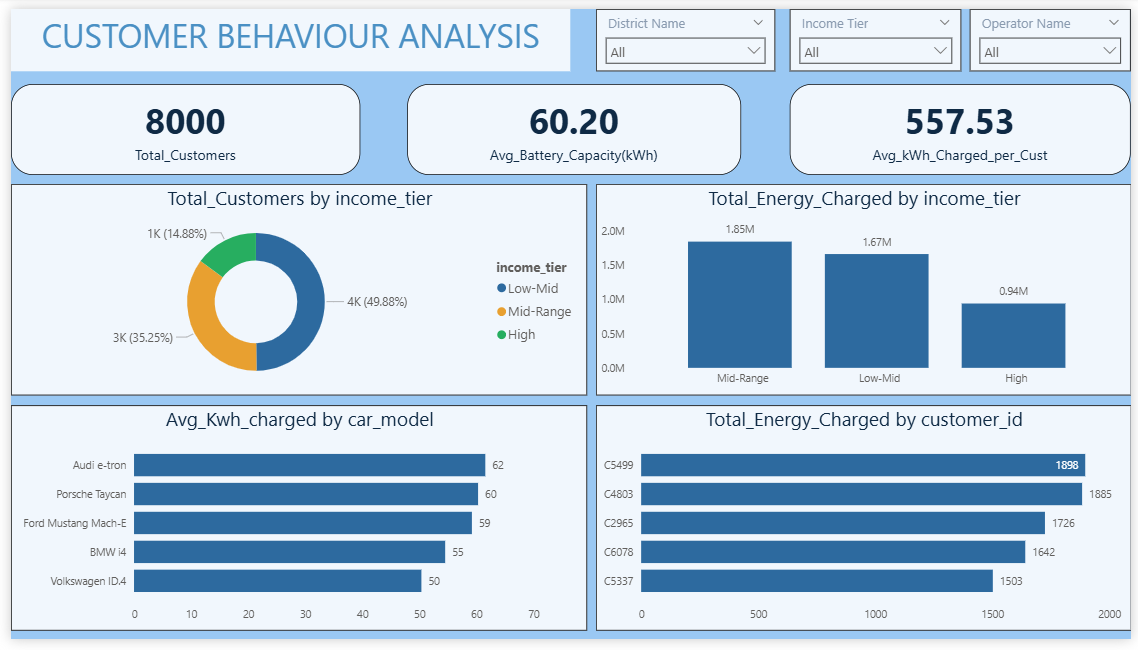

This screenshot's page, from the dashboard's own definition file:
{"tool":"powerbi","page":{"name":"Customer Behaviour","canvas":[1280,720],"ordinal":2},"visuals":[{"type":"card","fields":{"Values":["a.Total_Customers"]},"box":[0,85.1,399.3,104.3],"z":0},{"type":"card","fields":{"Values":["a.Avg_Battery_Capacity"]},"box":[452.8,85.1,381.5,104.3],"z":1000},{"type":"card","fields":{"Values":["a.Avg_kWh_Charged_per_Cust"]},"box":[890.6,85.1,389.7,104.3],"z":2000},{"type":"clusteredBarChart","fields":{"Category":["customers.car_model"],"Y":["a.Avg_Kwh_charged"]},"box":[0,452.8,658.7,258],"z":3000},{"type":"barChart","fields":{"Y":["a.Total_Energy_Charged"],"Category":["customers.customer_id"]},"box":[668.3,452.8,612,258],"z":4000},{"type":"clusteredColumnChart","fields":{"Y":["a.Total_Energy_Charged"],"Category":["customers.income_tier"]},"box":[668.3,200.3,612,241.5],"z":5000},{"type":"textbox","box":[0,0,639.5,71.4],"z":6000},{"type":"slicer","fields":{"Values":["districts.district_name"]},"box":[668.3,0,204.5,71.4],"z":7000},{"type":"slicer","fields":{"Values":["charging_station.operator_name"]},"box":[1096.4,0,183.9,71.4],"z":8000},{"type":"slicer","fields":{"Values":["customers.income_tier"]},"box":[890.6,0,196.2,71.4],"z":9000},{"type":"donutChart","fields":{"Y":["a.Total_Customers"],"Category":["customers.income_tier"]},"box":[0,200.3,658.7,241.5],"z":10000}]}

Visuals, with their boxes in screenshot pixels (x1, y1, x2, y2), scaled from the page's 1280x720 canvas onto the 1138x650 screenshot:
card - a.Total_Customers: crop(0, 77, 355, 171)
card - a.Avg_Battery_Capacity: crop(403, 77, 742, 171)
card - a.Avg_kWh_Charged_per_Cust: crop(792, 77, 1137, 171)
clusteredBarChart - customers.car_model x a.Avg_Kwh_charged: crop(0, 409, 586, 642)
barChart - a.Total_Energy_Charged x customers.customer_id: crop(594, 409, 1137, 642)
clusteredColumnChart - a.Total_Energy_Charged x customers.income_tier: crop(594, 181, 1137, 399)
textbox: crop(0, 0, 569, 64)
slicer - districts.district_name: crop(594, 0, 776, 64)
slicer - charging_station.operator_name: crop(975, 0, 1137, 64)
slicer - customers.income_tier: crop(792, 0, 966, 64)
donutChart - a.Total_Customers x customers.income_tier: crop(0, 181, 586, 399)
